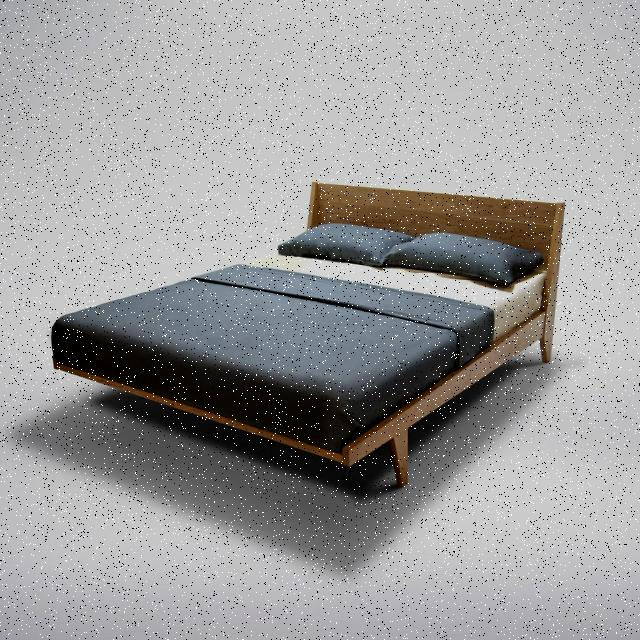bed: (41, 179, 573, 465)
